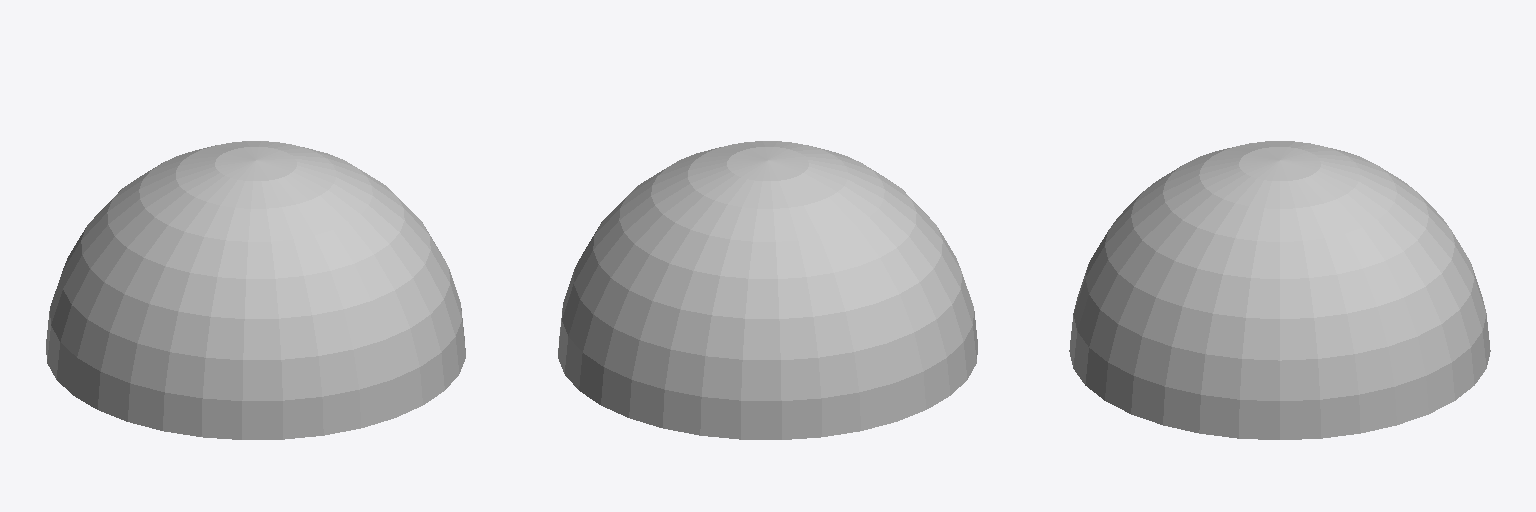
The model's file is SalleFin.obj.
3 views of the same model, side by side, from view 1: azimuth 30°, elevation 25°; view 2: azimuth 150°, elevation 25°; view 3: azimuth 270°, elevation 25° (orthographic).
Parts seen in each view (by area): view 1: Cube.001_Cube; view 2: Cube.001_Cube; view 3: Cube.001_Cube.
Part boxes in pixels (bbox=[...]): Cube.001_Cube: bbox=[46, 141, 465, 439]; Cube.001_Cube: bbox=[558, 141, 977, 439]; Cube.001_Cube: bbox=[1069, 141, 1490, 439].
Bounding box in the file's own units: 1000 × 500 × 1000.